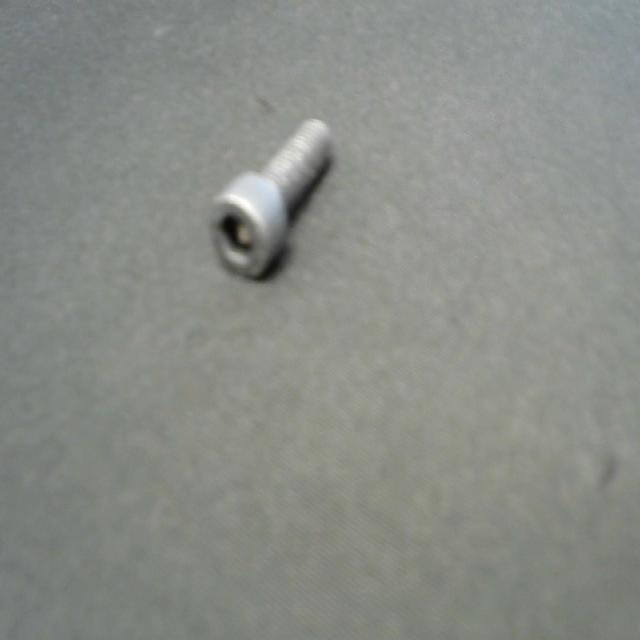SocketHeadCapScrew: (200, 96, 345, 296)
